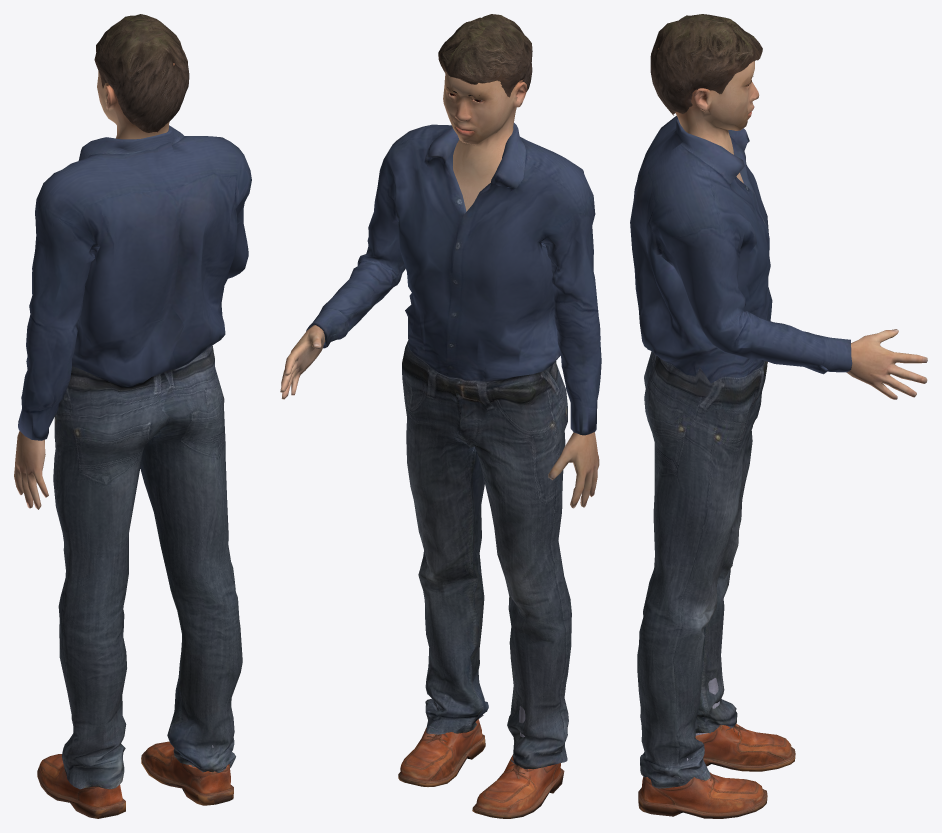
File: relaxed_1.gltf
3 renders of one model, left to right at view 1: azimuth 30°, elevation 25°; view 2: azimuth 150°, elevation 25°; view 3: azimuth 270°, elevation 25°, orthographic.
Visible parts, largest first — view 1: relaxed; view 2: relaxed; view 3: relaxed.
Boxes of the visible parts, x1,y1,x2,y2 form: relaxed: (14,14,251,818); relaxed: (280,14,601,818); relaxed: (630,14,927,818).
Bounding box in the file's own units: 0.5325 × 1.69 × 0.5959.
Materials: 6 (6 with a texture image).
